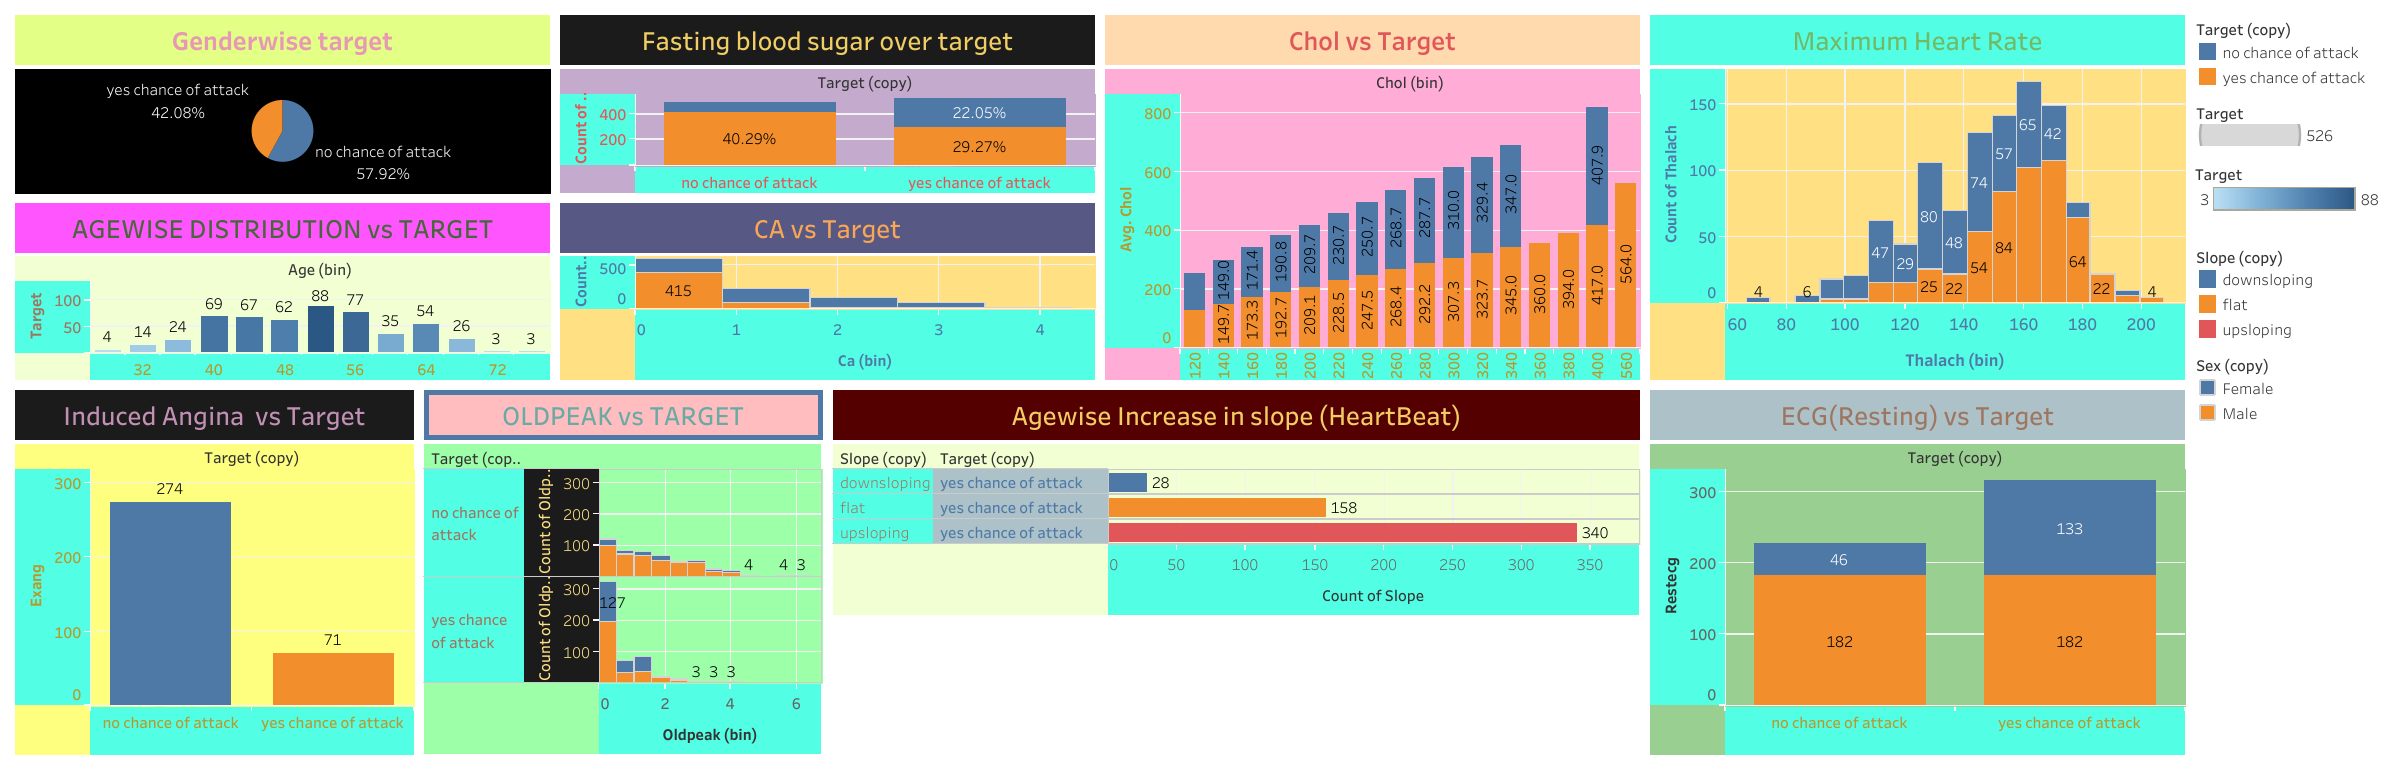

The page's visual inventory and layout, read from the dashboard file:
{"tool":"tableau","page":{"name":"Dashboard 1","canvas":[1000,1000],"units":"permille","ordinal":0},"visuals":[{"type":"worksheet","title":"Sheet 1","mark":"Pie","box":[4.2,9.6,227.1,245.2]},{"type":"worksheet","title":"Sheet 9","mark":"Automatic","rows":["fbs"],"cols":["Target (copy)_1558526971517280256"],"box":[231.2,9.6,227,245.2]},{"type":"worksheet","title":"Sheet 3","mark":"Automatic","rows":["chol"],"cols":["Chol (bin)"],"box":[458.3,9.6,227.1,490.4]},{"type":"worksheet","title":"Sheet 6","mark":"Automatic","rows":["thalach"],"cols":["Thalach (bin)"],"box":[685.4,9.6,227.1,490.4]},{"type":"legend","title":"Sheet 1","param":"[federated.07ddpfw1job4or1b67jq61rof3q0].[none:Target (copy)_1558526971517280256","box":[912.5,9.6,83.3,86.7]},{"type":"legend","title":"Sheet 1","param":"[federated.07ddpfw1job4or1b67jq61rof3q0].[sum:target:qk]","box":[912.5,96.3,83.3,61.4]},{"type":"legend","title":"Sheet 2","param":"[federated.07ddpfw1job4or1b67jq61rof3q0].[sum:target:qk]","box":[912.5,157.7,83.3,87.9]},{"type":"legend","title":"Sheet 5","param":"[federated.07ddpfw1job4or1b67jq61rof3q0].[none:Slope (copy)_1558526971527946242:","box":[912.5,245.5,83.3,111.9]},{"type":"worksheet","title":"Sheet 2","mark":"Automatic","rows":["target"],"cols":["Age (bin)"],"box":[4.2,254.8,227.1,245.2]},{"type":"worksheet","title":"Sheet 10","mark":"Automatic","rows":["ca"],"cols":["Ca (bin)"],"box":[231.2,254.8,227,245.2]},{"type":"legend","title":"Sheet 8","param":"[federated.07ddpfw1job4or1b67jq61rof3q0].[none:Sex (copy)_1558526971529232387:ok","box":[912.5,357.4,83.3,86.7]},{"type":"worksheet","title":"Sheet 4","mark":"Automatic","rows":["exang"],"cols":["Target (copy)_1558526971517280256"],"box":[4.2,500,170.3,490.4]},{"type":"worksheet","title":"Sheet 8","mark":"Automatic","rows":["Target (copy)_1558526971517280256","oldpeak"],"cols":["Oldpeak (bin)"],"box":[174.5,500,170.3,490.4]},{"type":"worksheet","title":"Sheet 5","mark":"Automatic","rows":["Slope (copy)_1558526971527946242","Target (copy)_1558526971517280256"],"cols":["slope"],"box":[344.8,500,340.6,490.4]},{"type":"worksheet","title":"Sheet 7","mark":"Automatic","rows":["restecg"],"cols":["Target (copy)_1558526971517280256"],"box":[685.4,500,227.1,490.4]}]}

Visuals, with their boxes on the dashboard's canvas, which has no fixed pixel size, in thousandths of its width and height (x1, y1, x2, y2). These are canvas units, not pixel positions in the 2399x769 screenshot, which may show the page scaled, cropped or inside an application window:
"Sheet 1" worksheet (Pie marks): (x1=4, y1=10, x2=231, y2=255)
"Sheet 9" worksheet: (x1=231, y1=10, x2=458, y2=255)
"Sheet 3" worksheet: (x1=458, y1=10, x2=685, y2=500)
"Sheet 6" worksheet: (x1=685, y1=10, x2=912, y2=500)
"Sheet 1" legend: (x1=912, y1=10, x2=996, y2=96)
"Sheet 1" legend: (x1=912, y1=96, x2=996, y2=158)
"Sheet 2" legend: (x1=912, y1=158, x2=996, y2=246)
"Sheet 5" legend: (x1=912, y1=246, x2=996, y2=357)
"Sheet 2" worksheet: (x1=4, y1=255, x2=231, y2=500)
"Sheet 10" worksheet: (x1=231, y1=255, x2=458, y2=500)
"Sheet 8" legend: (x1=912, y1=357, x2=996, y2=444)
"Sheet 4" worksheet: (x1=4, y1=500, x2=174, y2=990)
"Sheet 8" worksheet: (x1=174, y1=500, x2=345, y2=990)
"Sheet 5" worksheet: (x1=345, y1=500, x2=685, y2=990)
"Sheet 7" worksheet: (x1=685, y1=500, x2=912, y2=990)
